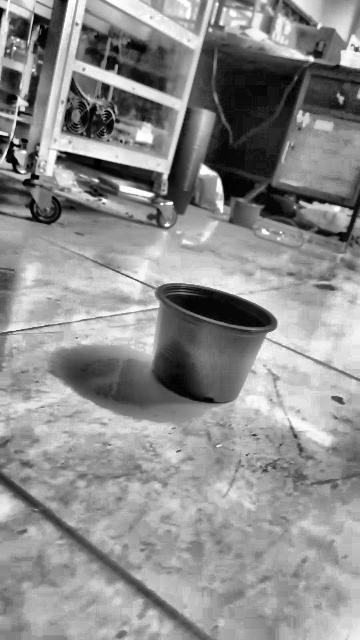pot: (151, 284, 277, 403)
